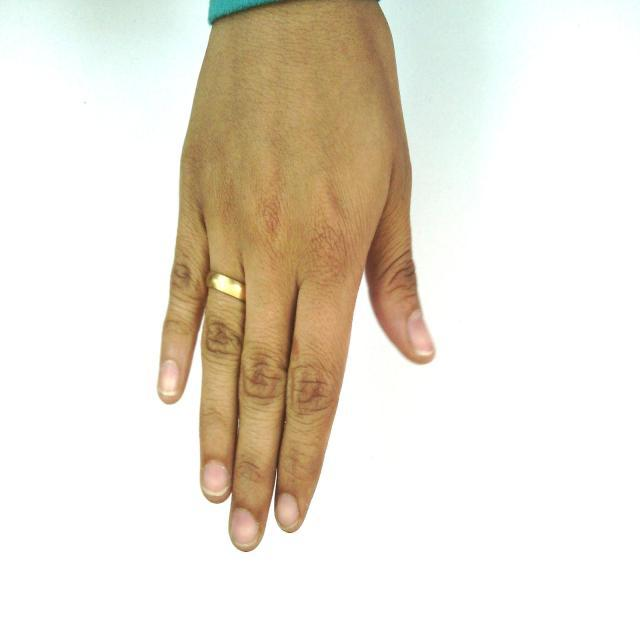Fingernail: (409, 310, 434, 355), (232, 509, 259, 546), (204, 463, 229, 496), (277, 494, 299, 531), (160, 361, 178, 394)
